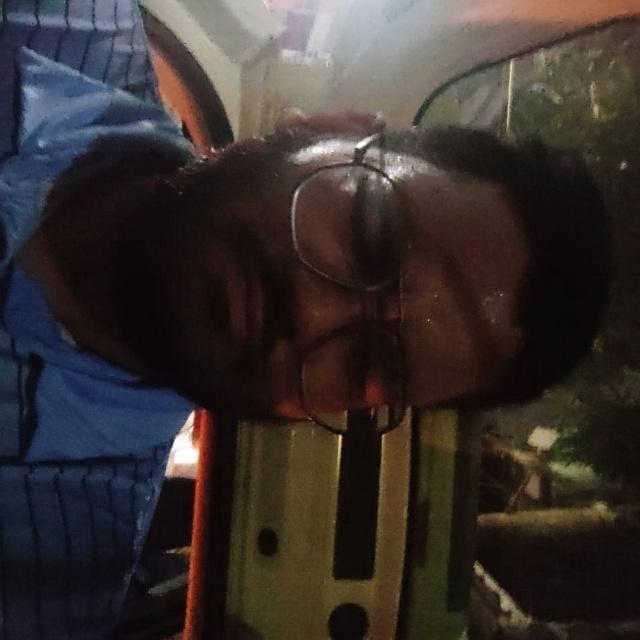Disgust: (107, 102, 550, 455)
